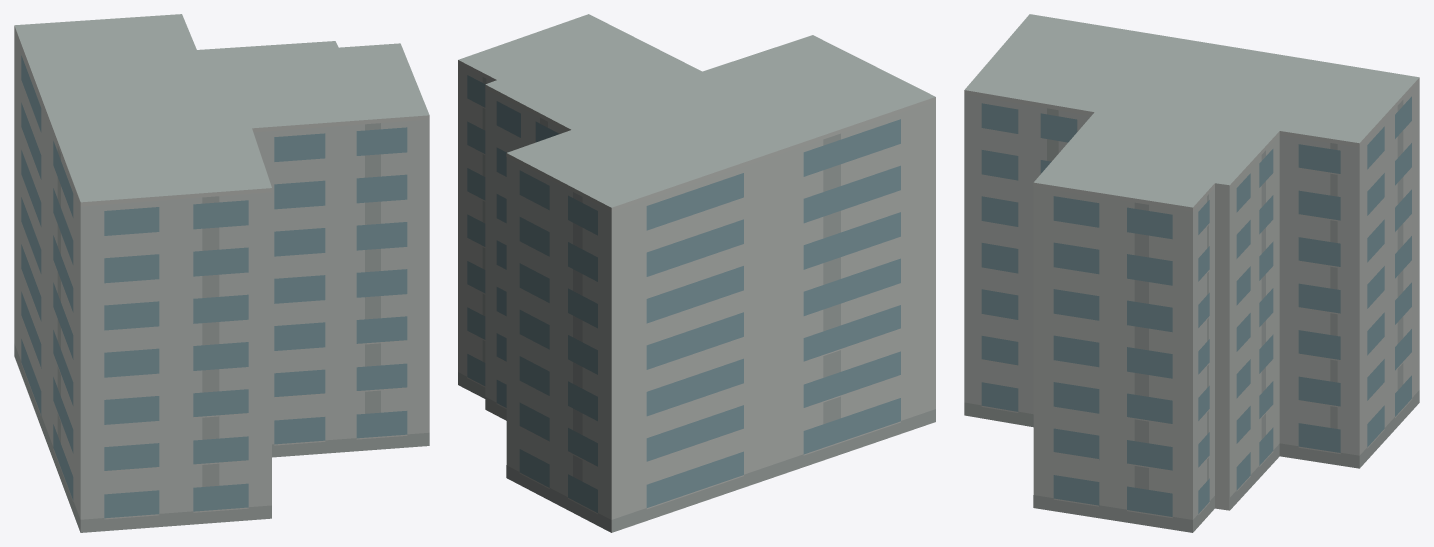
File: survey-upis-32880032.glb
3 views of the same model, side by side, from view 1: azimuth 30°, elevation 25°; view 2: azimuth 150°, elevation 25°; view 3: azimuth 270°, elevation 25° (orthographic).
Parts seen in each view (by area): view 1: survey-upis-32880032.tmp; view 2: survey-upis-32880032.tmp; view 3: survey-upis-32880032.tmp.
Part boxes in pixels (x1=…): survey-upis-32880032.tmp: x1=14, y1=14, x2=429, y2=532; survey-upis-32880032.tmp: x1=458, y1=14, x2=935, y2=532; survey-upis-32880032.tmp: x1=964, y1=14, x2=1419, y2=532.
Bounding box in the file's own units: 24.24 × 19 × 24.1.
